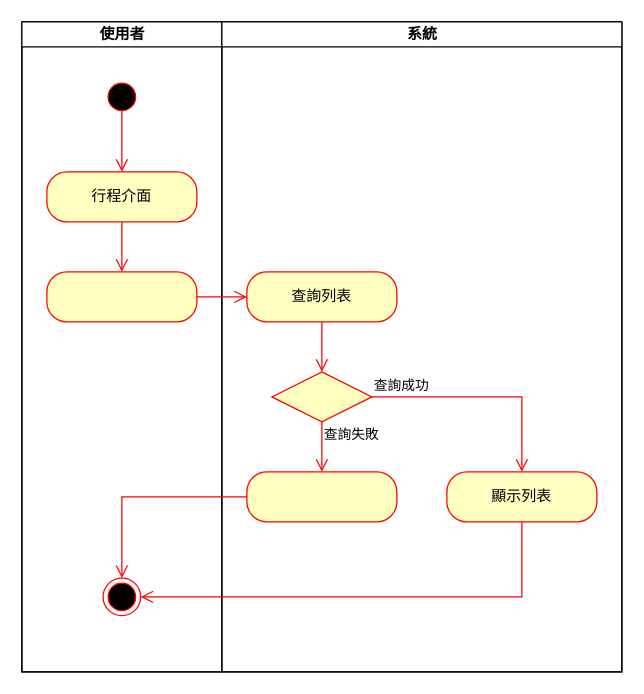
This 644x694 diagram has some shape labels left out. Here are the shapes that lost their labels. From the top down, the centre of each, then its label:
At [121,296]: "進入列表".
At [321,496]: "顯示查無列表".
